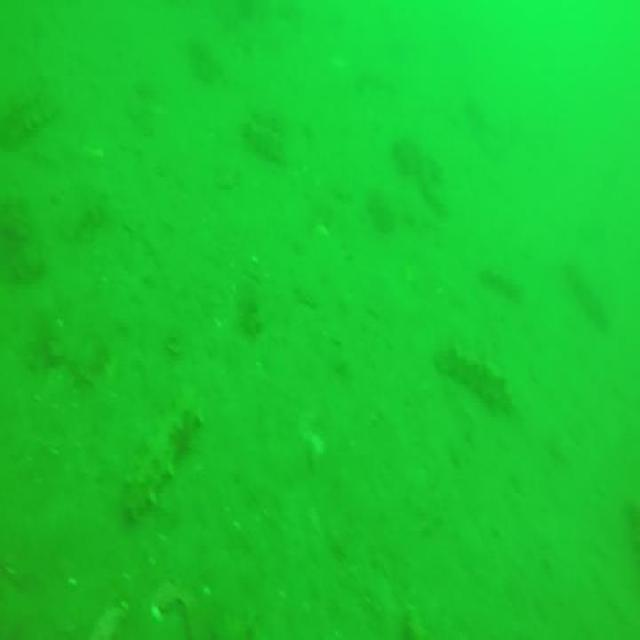holothurian: (127, 400, 202, 518), (441, 339, 517, 424), (0, 60, 62, 134)
